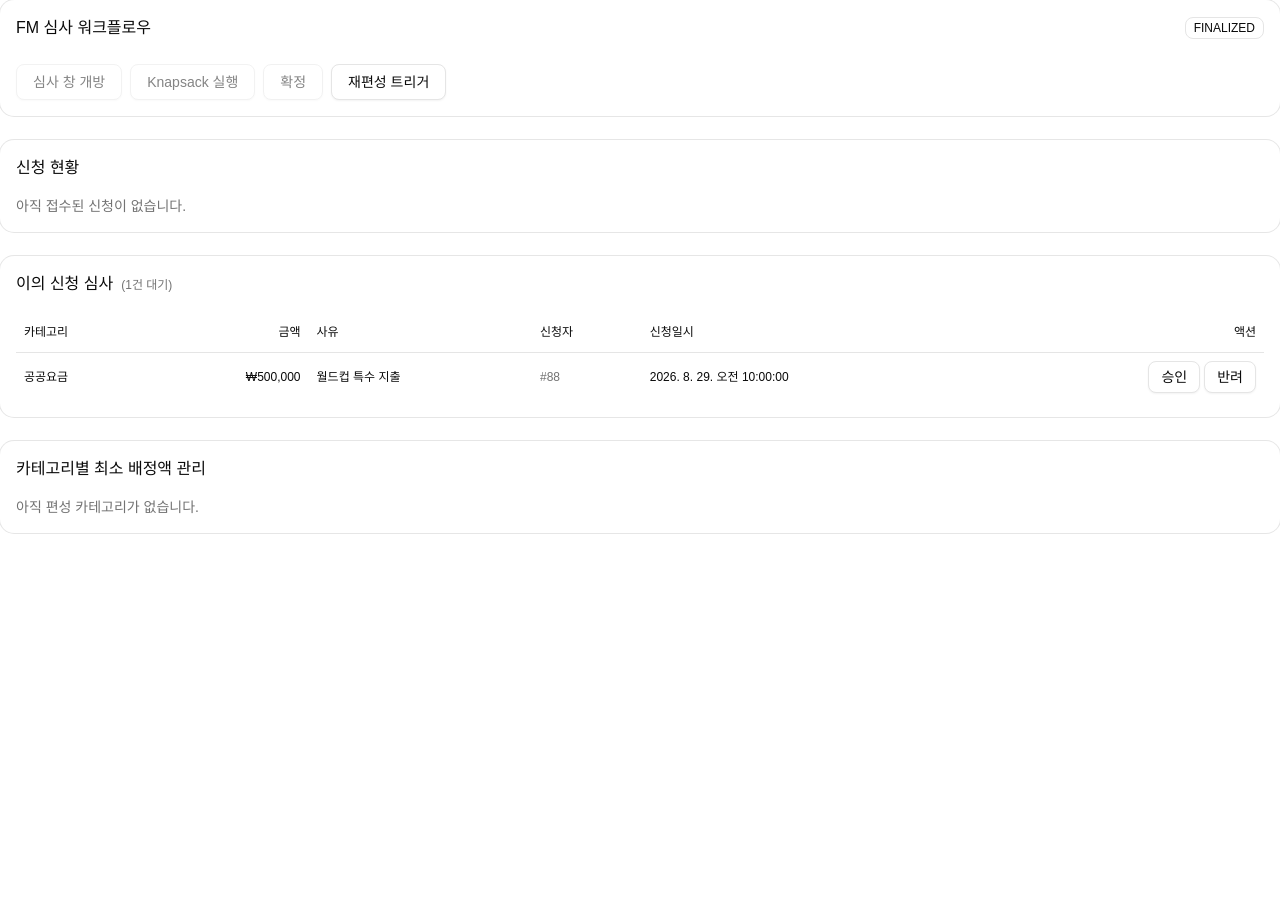
FinanceManagerReview — 반려 flow › [반려] 클릭 → note 필수 → 미입력 시 제출 비활성
Click the button with test id "override-reject-9": (1230, 376) x1=1204 y1=360 x2=1256 y2=392
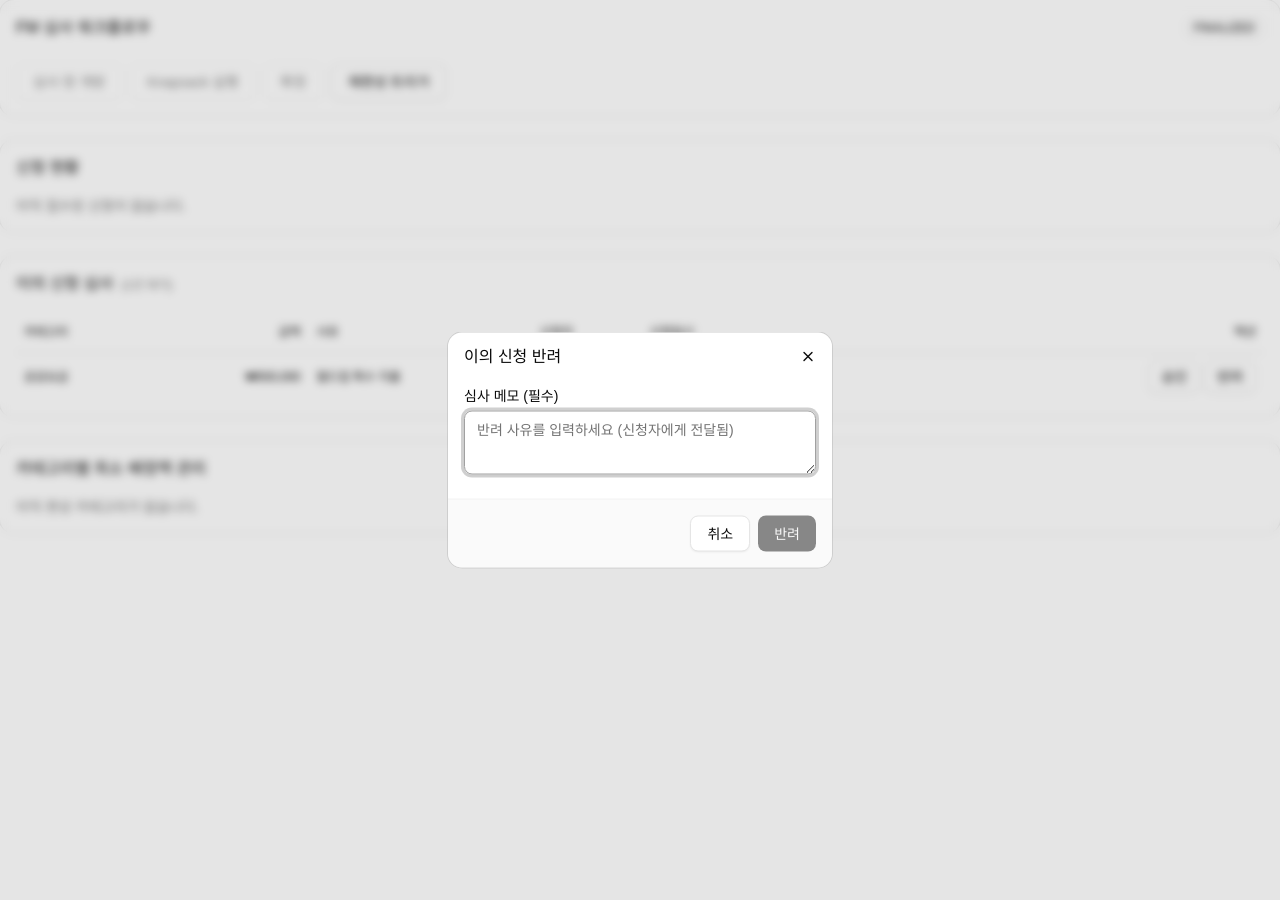
Check: the button with test id "override-review-submit" is disabled, box x1=758 y1=516 x2=816 y2=552
